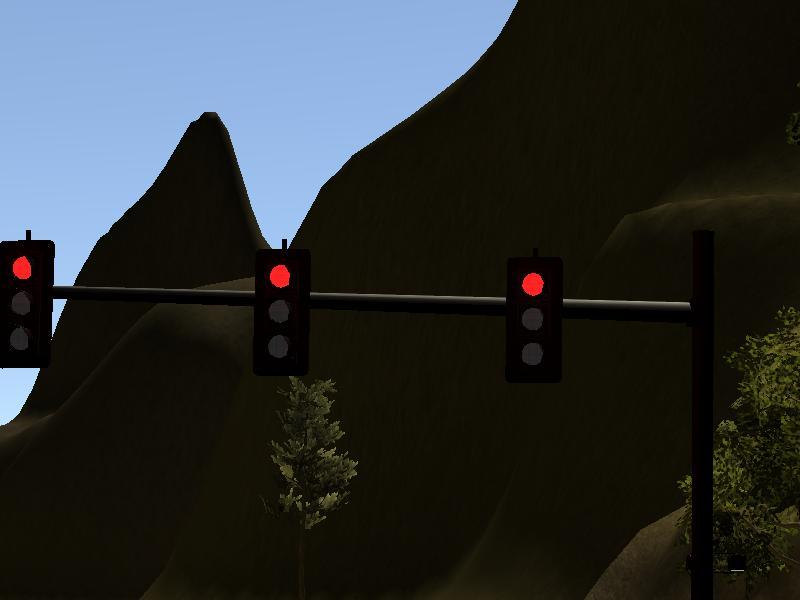Red: (1, 240, 54, 364), (512, 262, 560, 384), (257, 252, 306, 368)
